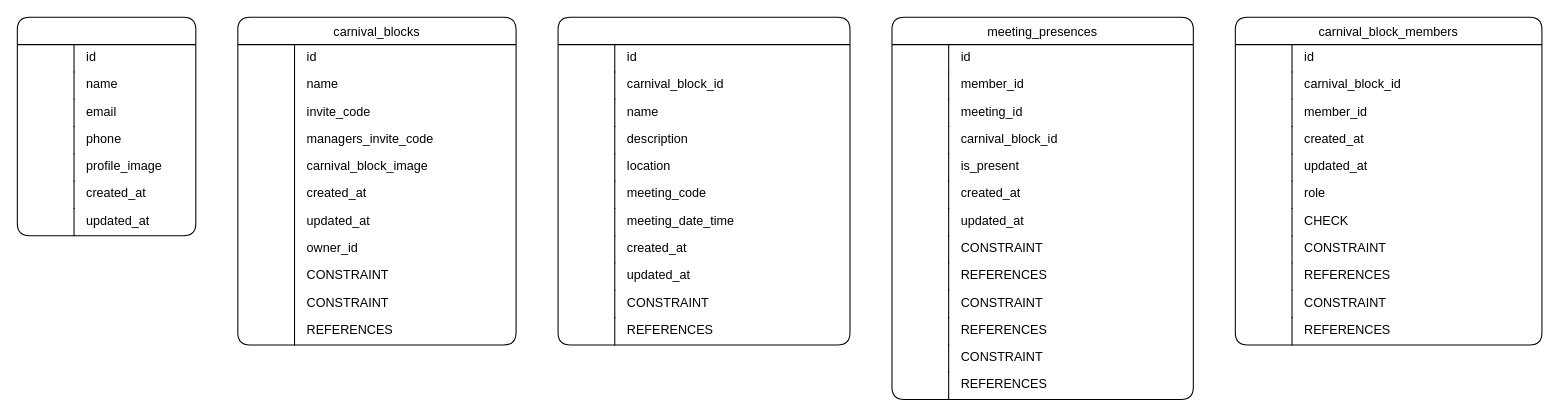
Some shapes in this 1559 by 417 pixel diagram are drawn without their labels. The box of each missing label's shape, as (x1, y1, x2, y2) in pixels:
meetings: (557, 16, 850, 345)
members: (16, 16, 196, 236)
